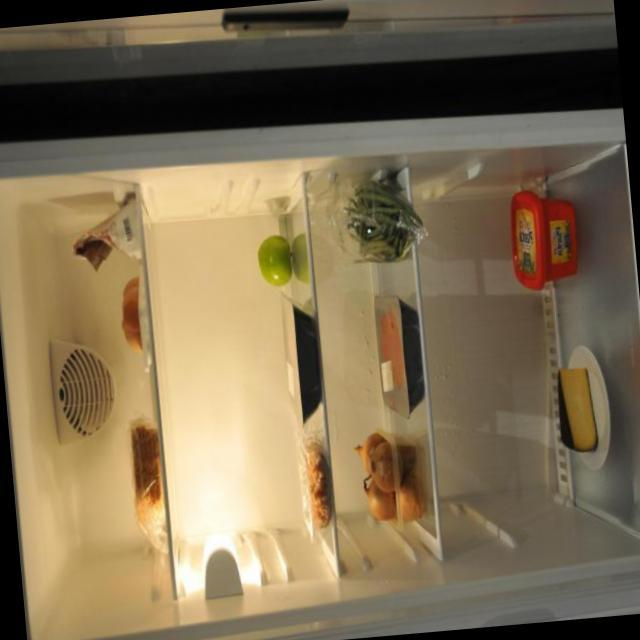Huevos: (108, 273, 158, 368)
Manzana: (241, 231, 308, 298)
Queso: (549, 349, 619, 486)
